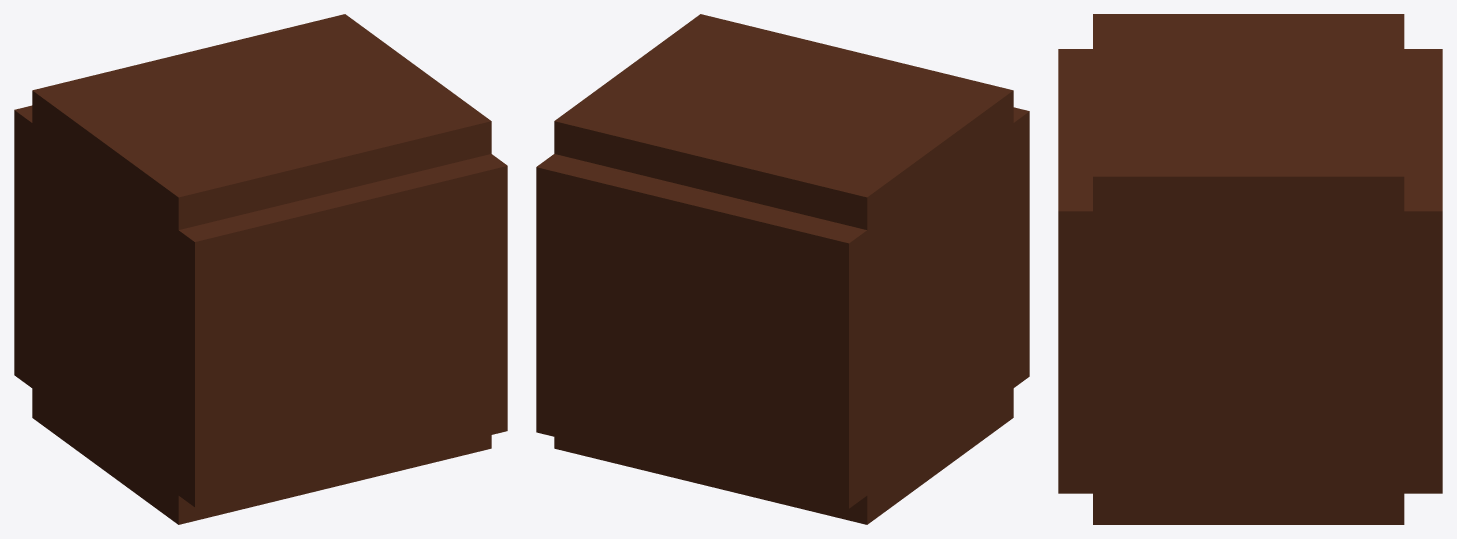
The model's file is log.glb.
3 views of the same model, side by side, from view 1: azimuth 30°, elevation 25°; view 2: azimuth 150°, elevation 25°; view 3: azimuth 270°, elevation 25° (orthographic). The views are drawn at different scales.
Visible parts, largest first — view 1: Cube; view 2: Cube; view 3: Cube.
Part boxes in pixels (x1,y1,x2,y2): Cube: [14, 14, 507, 524]; Cube: [536, 14, 1029, 524]; Cube: [1058, 14, 1442, 524].
Size of the model in its own units: 1 by 1 by 1.
